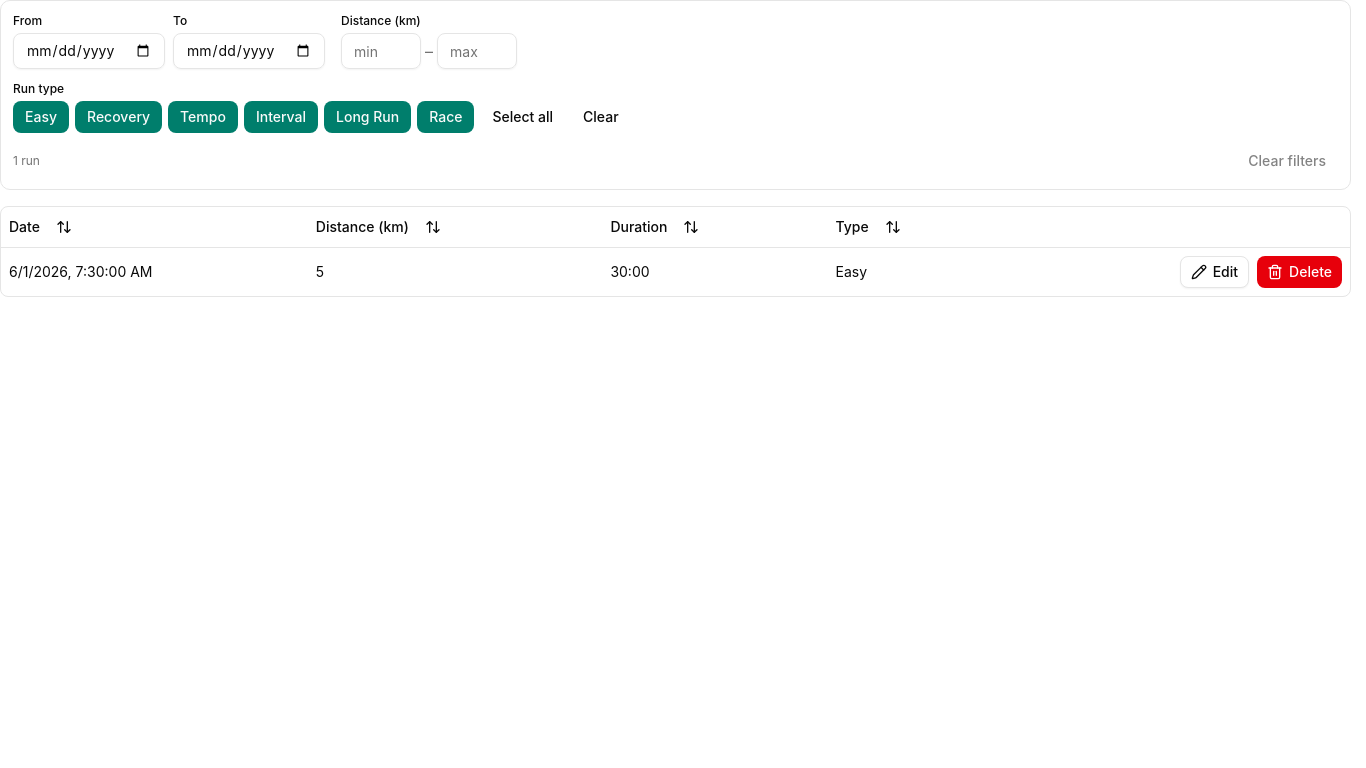
RunList delete flow › does not delete when the confirmation is declined
Click the button "Delete" at (1300, 272), box [1257,256,1342,288]
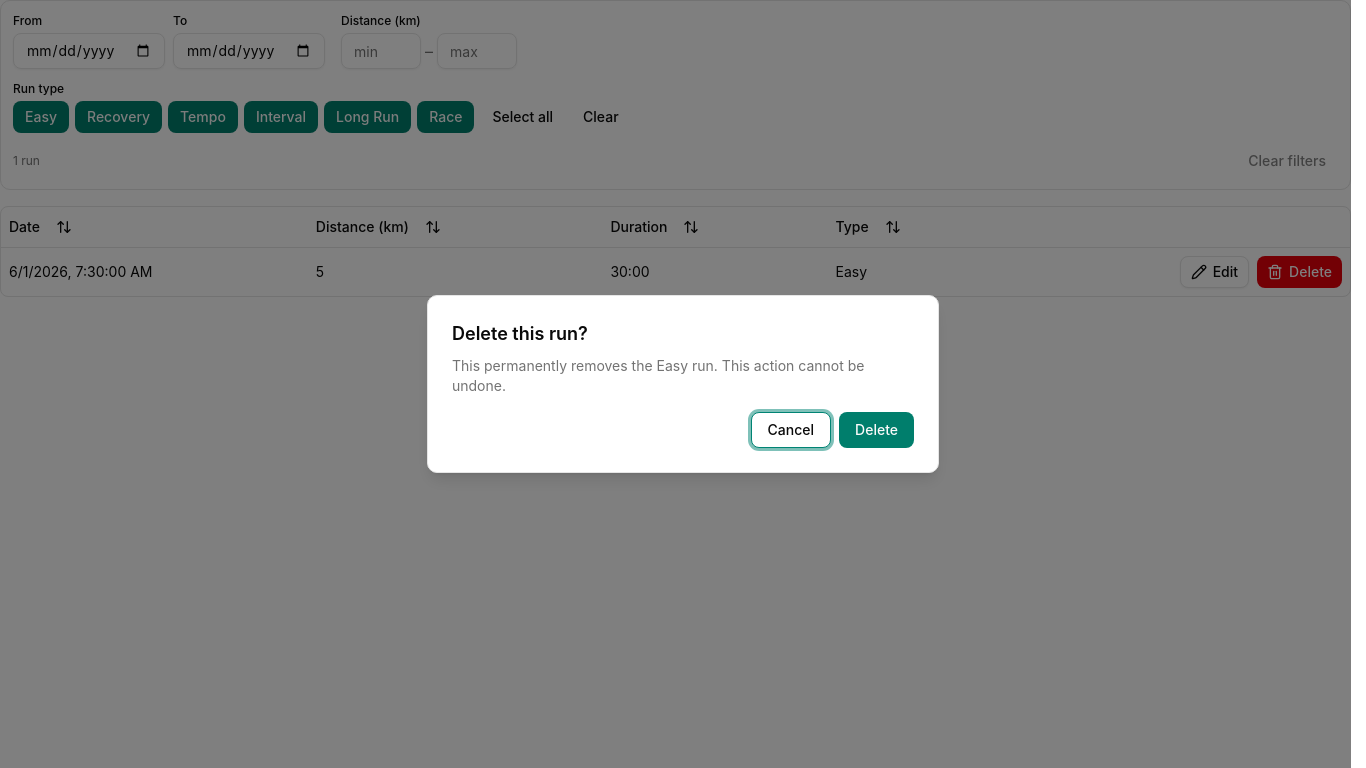
Click the button "Cancel" at (791, 430), box [751,412,831,448]
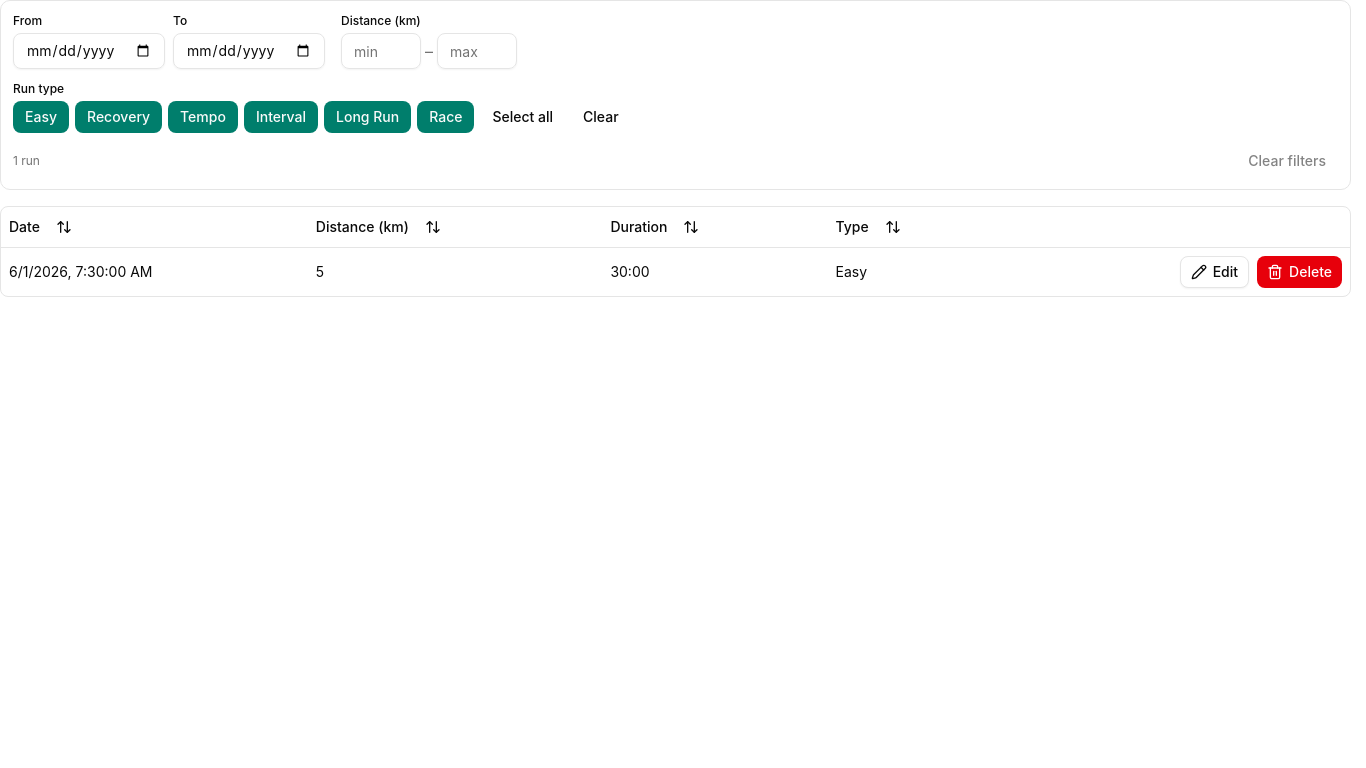
expect the dialog is gone: met
